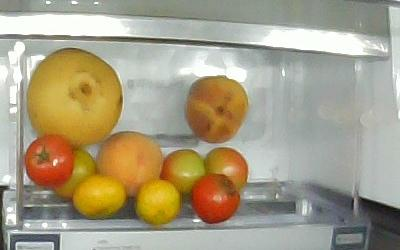peach: (96, 132, 163, 198), (186, 75, 250, 142)
pear: (27, 47, 123, 147)
tangerine: (73, 175, 126, 220), (134, 179, 179, 226)
tomato: (24, 134, 74, 185), (51, 147, 96, 202), (191, 174, 239, 225), (202, 146, 248, 195), (161, 149, 204, 195)
